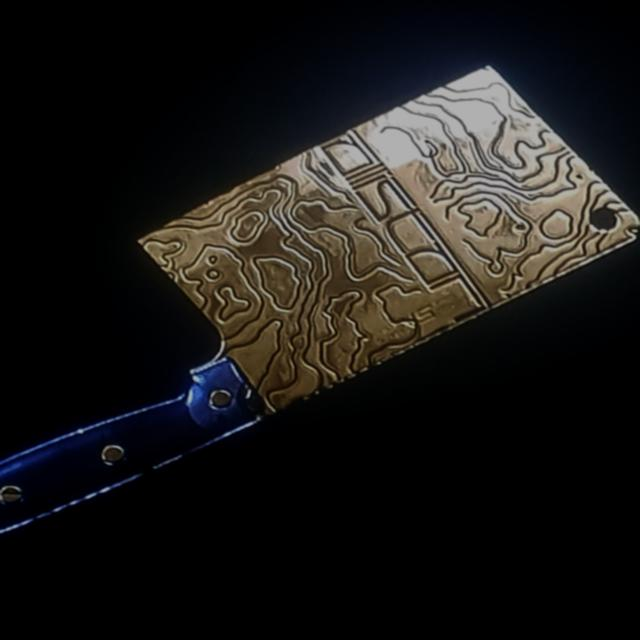cleaver: (0, 68, 639, 540)
